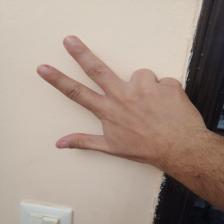three: (28, 28, 222, 184)
